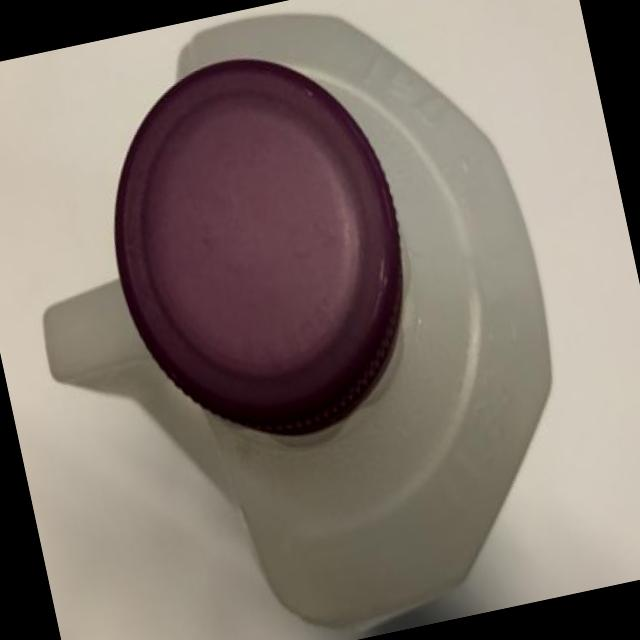Trash: (82, 40, 438, 467)
